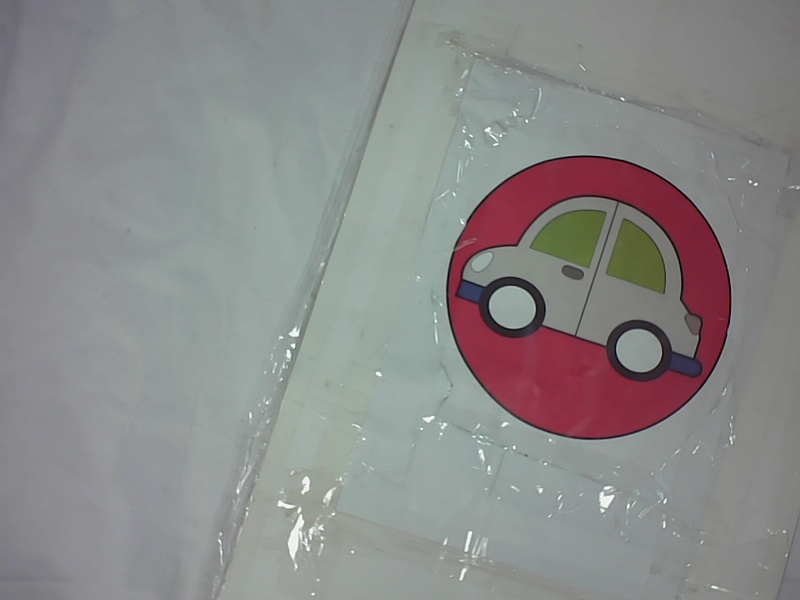areaC: (432, 147, 737, 450)
